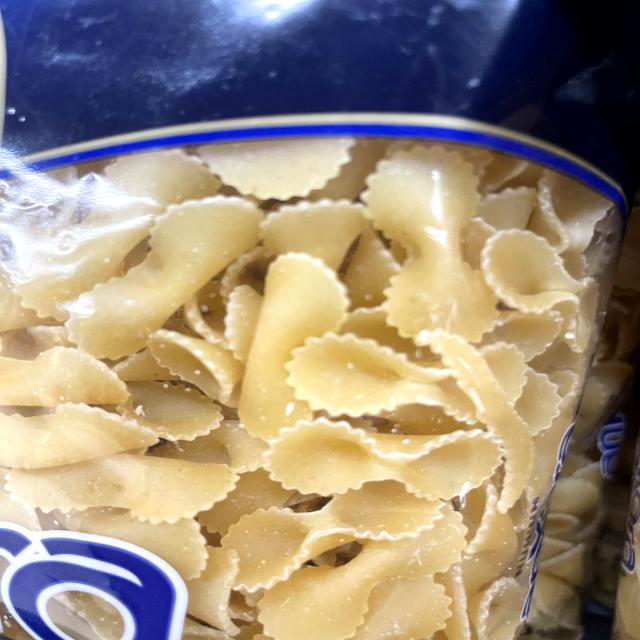farfalle pasta: (0, 152, 612, 640)
